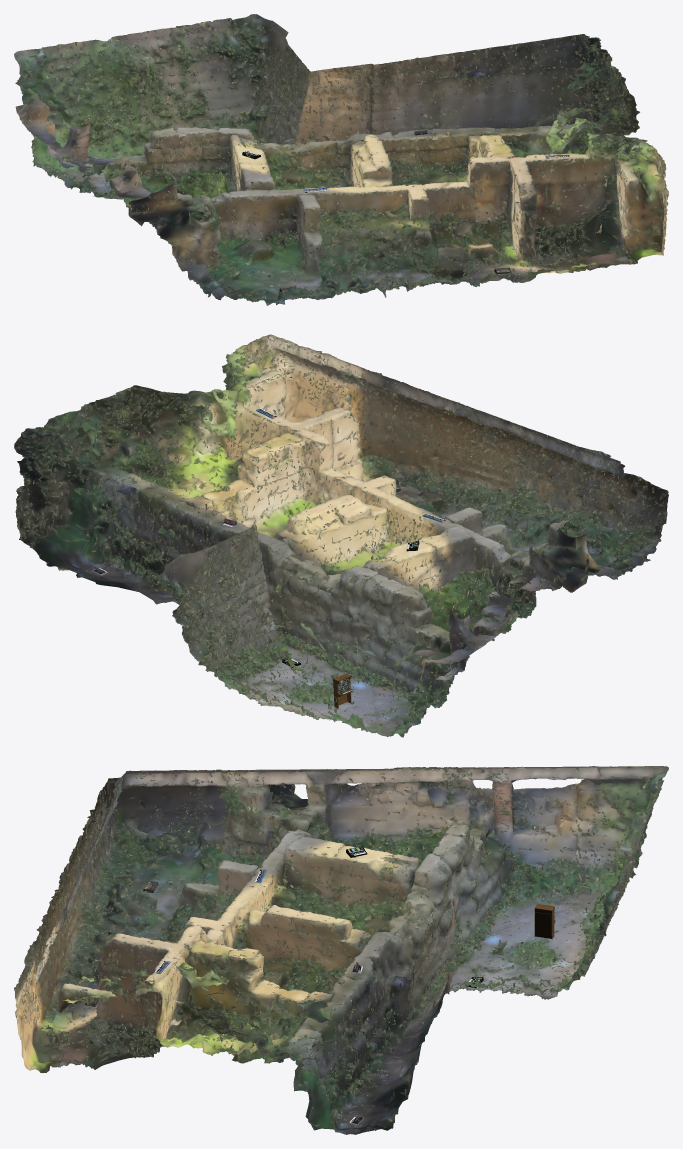
The model's file is neapolis.glb.
3 views of the same model, one above another, from view 1: azimuth 30°, elevation 25°; view 2: azimuth 150°, elevation 25°; view 3: azimuth 270°, elevation 25° (orthographic). The views are drawn at different scales.
Parts seen in each view (by area): view 1: Object_3, Object_6, Object_4, Object_5, Object_8, Object_7, Object_9, Object_10; view 2: Object_8, Object_4, Object_6, Object_5, Object_9, Object_3, Object_7, Object_10; view 3: Object_5, Object_6, Object_7, Object_3, Object_9, Object_8, Object_4, Object_10, Frame.001.
Part boxes in pixels (x1,y1,x2,y2): Object_3: [14, 14, 665, 245]; Object_6: [214, 48, 599, 302]; Object_4: [82, 29, 668, 271]; Object_5: [18, 47, 567, 300]; Object_8: [373, 34, 626, 286]; Object_7: [179, 57, 581, 305]; Object_9: [135, 62, 621, 244]; Object_10: [57, 128, 254, 199]; Object_8: [14, 351, 479, 576]; Object_4: [103, 335, 472, 697]; Object_6: [33, 402, 661, 637]; Object_5: [146, 421, 668, 731]; Object_9: [15, 415, 542, 720]; Object_3: [14, 334, 620, 737]; Object_7: [66, 406, 660, 602]; Object_10: [281, 569, 450, 727]; Object_5: [59, 767, 595, 1039]; Object_6: [58, 772, 442, 1134]; Object_7: [58, 770, 429, 1134]; Object_3: [34, 766, 668, 1050]; Object_9: [244, 807, 588, 1119]; Object_8: [24, 863, 403, 1134]; Object_4: [14, 825, 591, 1072]; Object_10: [421, 825, 589, 983]; Frame.001: [534, 904, 555, 938].
Bounding box in the file's own units: 29.05 × 6.99 × 29.35.
Materials: 36 (24 with a texture image).
